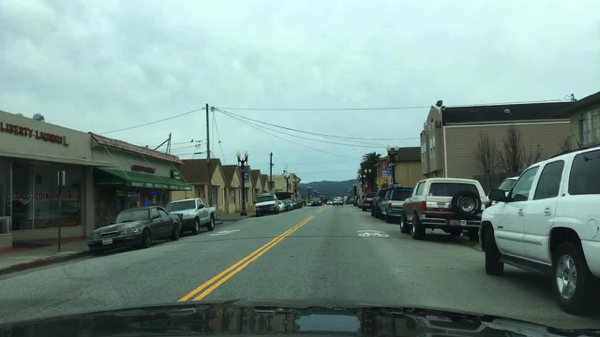car: (478, 145, 599, 314), (398, 179, 489, 242), (86, 206, 183, 255), (377, 187, 414, 223), (487, 175, 522, 205), (254, 192, 279, 216), (370, 189, 388, 217), (362, 193, 375, 210), (331, 197, 345, 206), (287, 198, 298, 209), (281, 200, 291, 211), (311, 197, 323, 206), (352, 195, 361, 206), (277, 200, 285, 212), (295, 197, 303, 208), (358, 195, 365, 207), (286, 199, 293, 209), (347, 197, 353, 205), (326, 199, 331, 205), (307, 201, 311, 206)
traffic sign: (57, 171, 66, 187), (386, 169, 392, 178), (243, 173, 249, 181), (381, 170, 387, 177), (375, 180, 381, 187), (387, 162, 393, 167)
truck: (164, 197, 216, 236)
